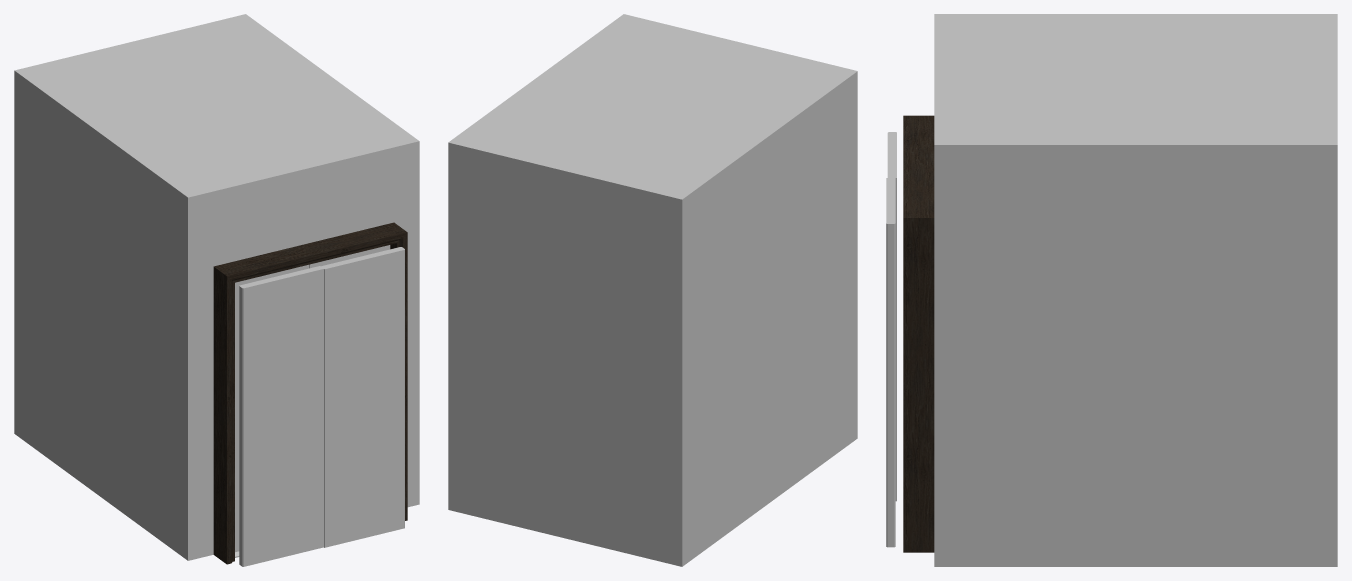
Rendered from elevator_2.fbx.
The picture shows the model from 3 angles, left to right: view 1: azimuth 30°, elevation 25°; view 2: azimuth 150°, elevation 25°; view 3: azimuth 270°, elevation 25°; orthographic projection. The views are drawn at different scales.
Visible parts, largest first — view 1: elevator_2, elevator_door_3_b, elevator_door_3_a, elevator_door_4_b; view 2: elevator_2; view 3: elevator_2, elevator_door_3_a, elevator_door_3_b.
Boxes of the visible parts, <box> form: elevator_2: <box>14,14,419,564</box>; elevator_door_3_b: <box>239,266,323,566</box>; elevator_door_3_a: <box>321,247,404,547</box>; elevator_door_4_b: <box>235,264,309,552</box>; elevator_2: <box>448,14,857,566</box>; elevator_2: <box>903,14,1337,566</box>; elevator_door_3_a: <box>886,178,895,547</box>; elevator_door_3_b: <box>887,132,896,501</box>.
Size of the model in its own units: 2 by 3 by 2.91.
